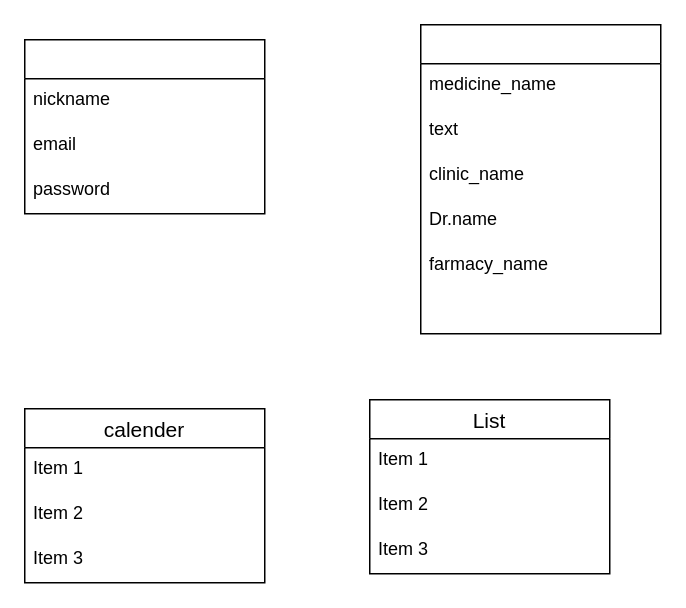
This 686x608 diagram has some shape labels left out. The box of each missing label's shape, as (x1, y1, x2, y2) in pixels:
note: (419, 23, 661, 334)
User: (23, 38, 265, 214)
